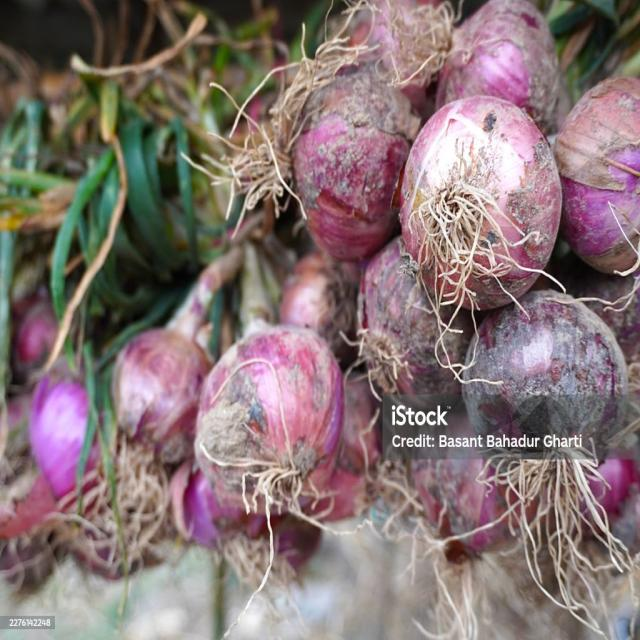mechanical_damage: (426, 114, 572, 260)
rotten: (220, 353, 274, 481)
sprouting: (187, 241, 280, 300)
